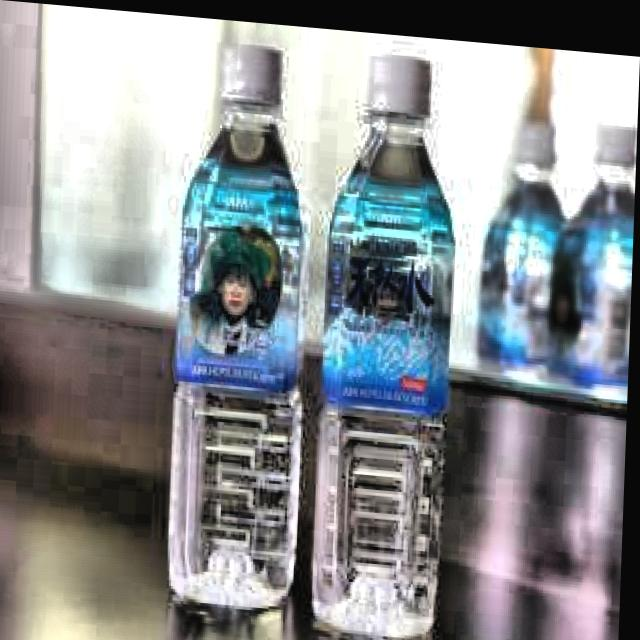Bottles: (313, 38, 475, 640), (168, 27, 323, 624)
